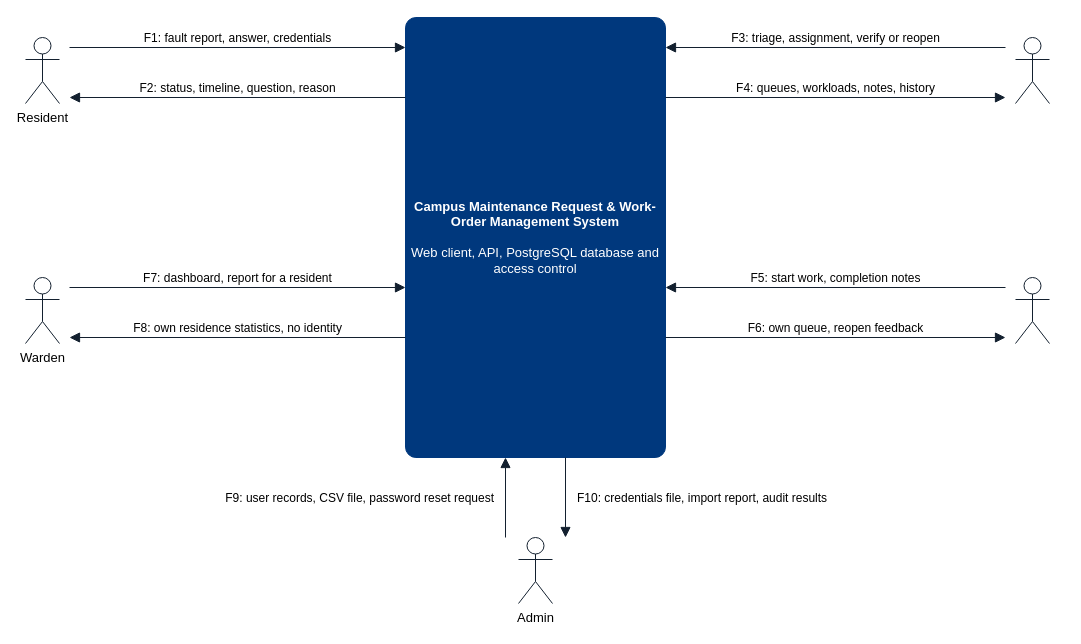
This 1081x644 diagram has some shape labels left out. Each missing label, with the centre of its shape:
"Supervisor" belongs at pixel 1032 70.
"Technician" belongs at pixel 1032 310.
